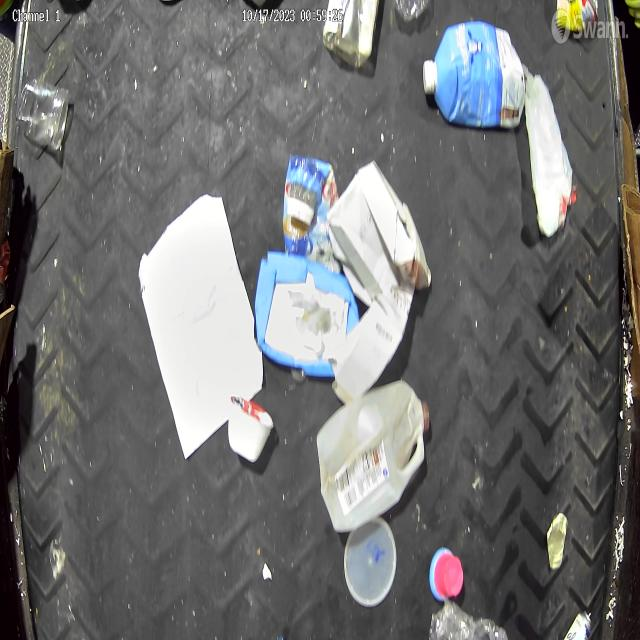can: (547, 510, 569, 570)
milk_jug: (316, 378, 430, 534)
non_white_jug: (254, 246, 358, 375), (425, 23, 528, 130)
